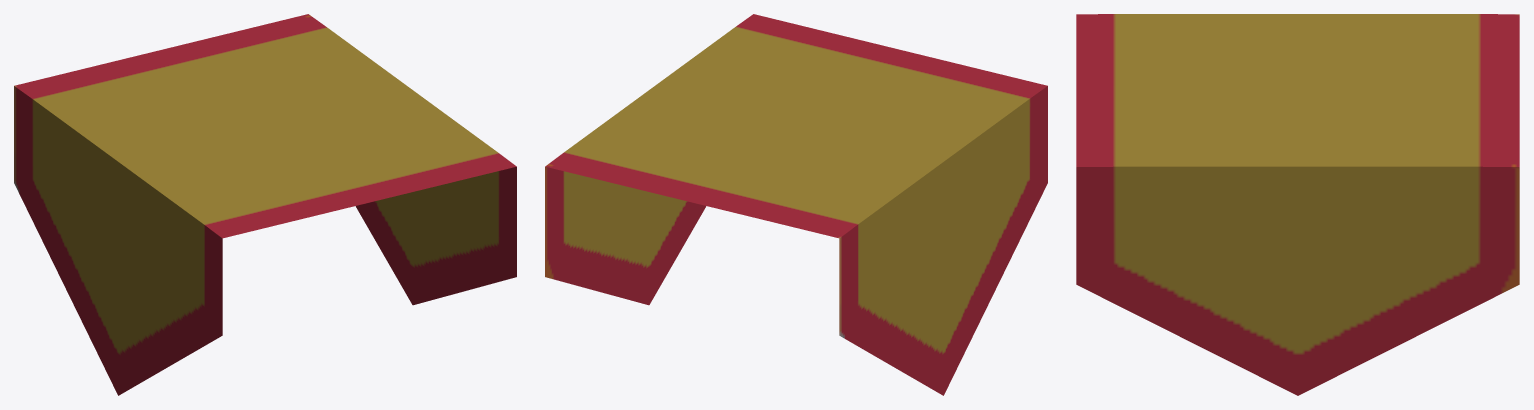
File: cloth.fbx
The picture shows the model from 3 angles, left to right: view 1: azimuth 30°, elevation 25°; view 2: azimuth 150°, elevation 25°; view 3: azimuth 270°, elevation 25°; orthographic projection. The views are drawn at different scales.
Visible parts, largest first — view 1: cloth; view 2: cloth; view 3: cloth.
Part boxes in pixels (x1,y1,x2,y2): cloth: (14,14,516,395); cloth: (545,14,1047,395); cloth: (1076,14,1519,395).
Bounding box in the file's own units: 189 × 144 × 232.
1 material, 1 textured.
